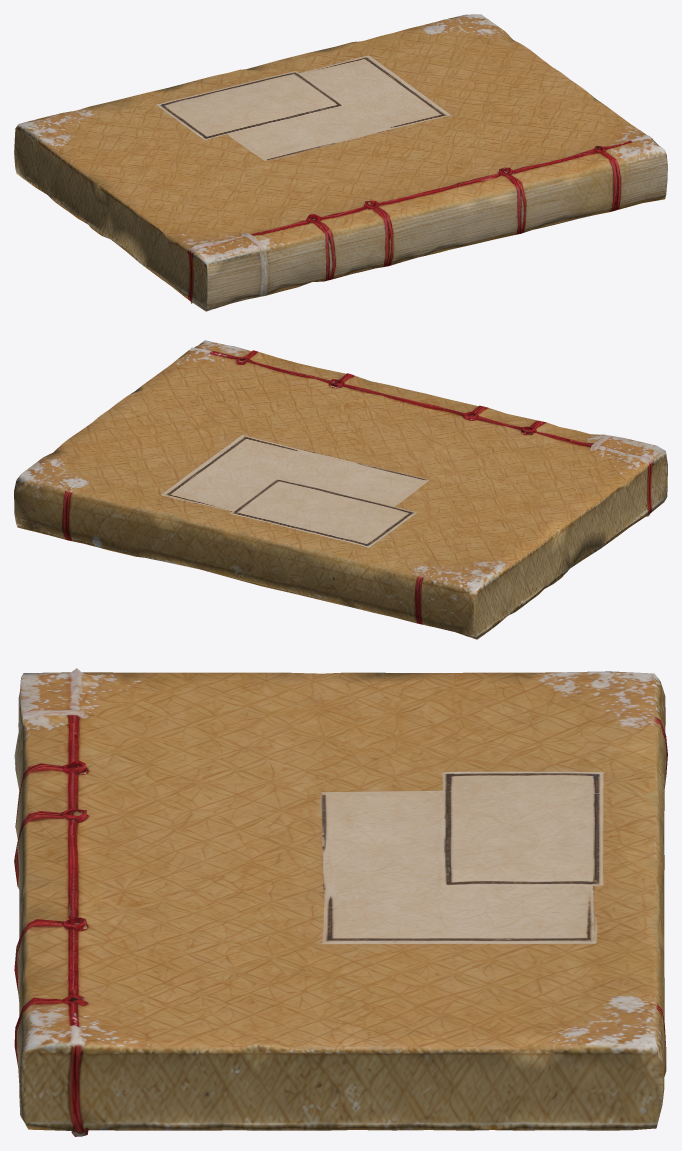
File: PR_Bimangnok.fbx
3 views of the same model, one above another, from view 1: azimuth 30°, elevation 25°; view 2: azimuth 150°, elevation 25°; view 3: azimuth 270°, elevation 25° (orthographic). The views are drawn at different scales.
Parts seen in each view (by area): view 1: texture_mapping; view 2: texture_mapping; view 3: texture_mapping.
Part boxes in pixels (x1,y1,x2,y2): texture_mapping: (14,14,667,311); texture_mapping: (14,340,667,639); texture_mapping: (14,668,667,1136).
Bounding box in the file's own units: 0.9989 × 0.7324 × 0.1216.
1 material, 1 textured.
